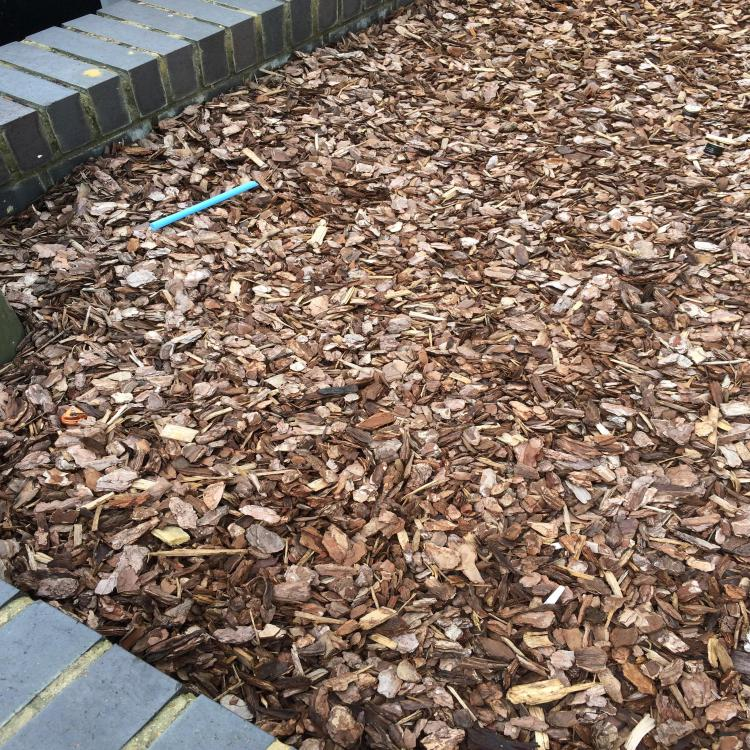Metal bottle cap: (704, 142, 726, 155), (683, 104, 701, 116)
Plastic straw: (150, 181, 259, 230)
